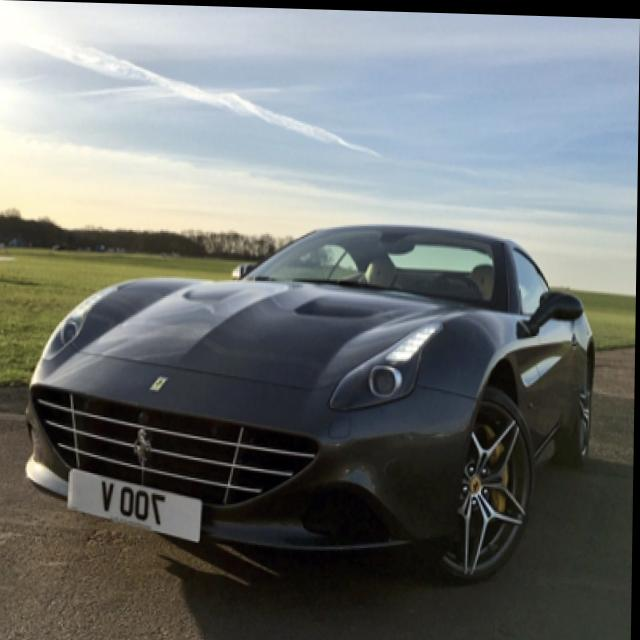licence: (76, 465, 198, 540)
